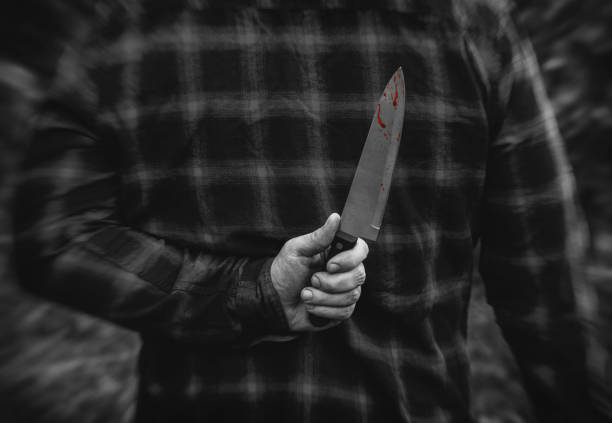knives: (80, 188, 498, 415)
